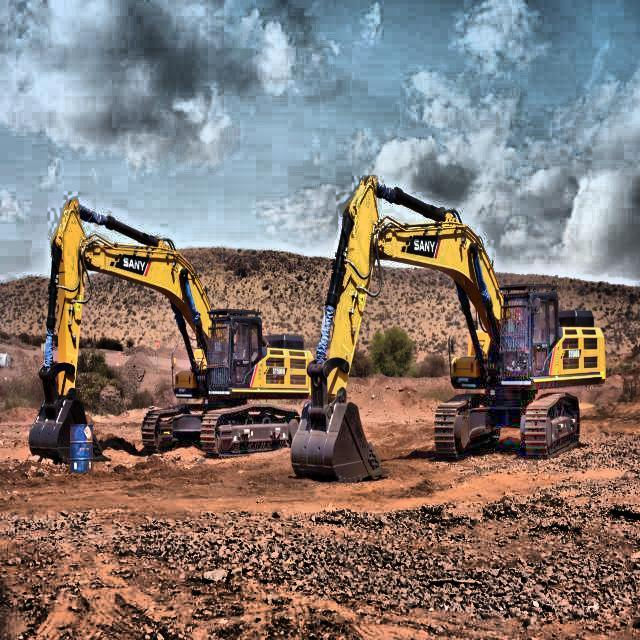excavator: (292, 178, 607, 494), (28, 196, 316, 469)
